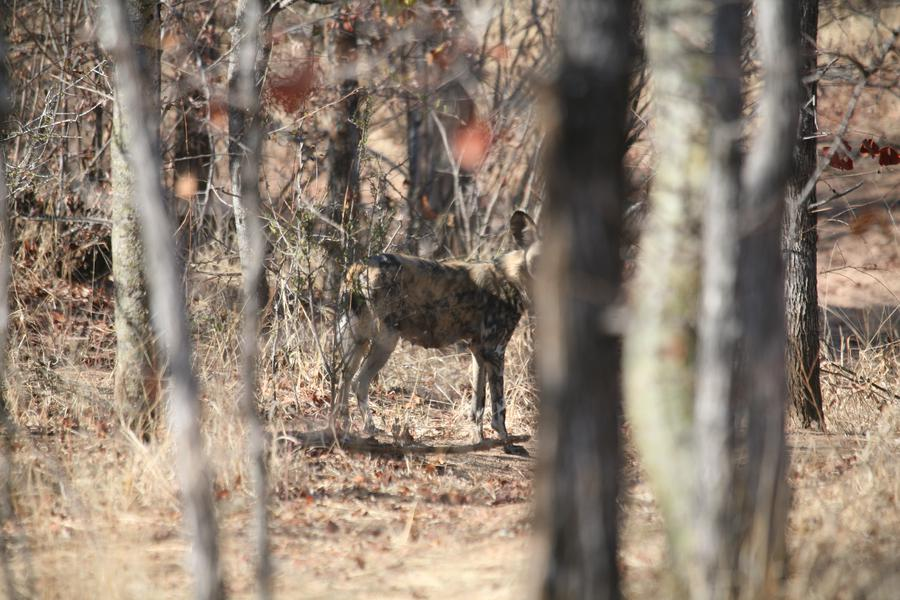wilddog: (318, 229, 532, 421)
